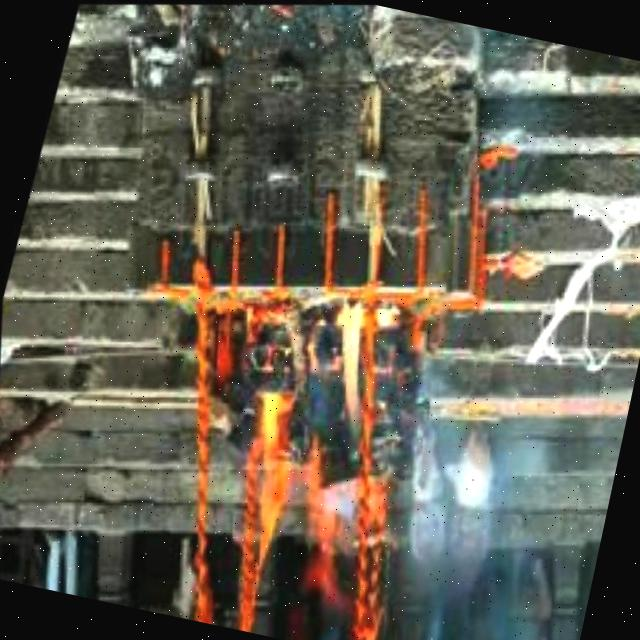fire: (194, 273, 438, 607)
